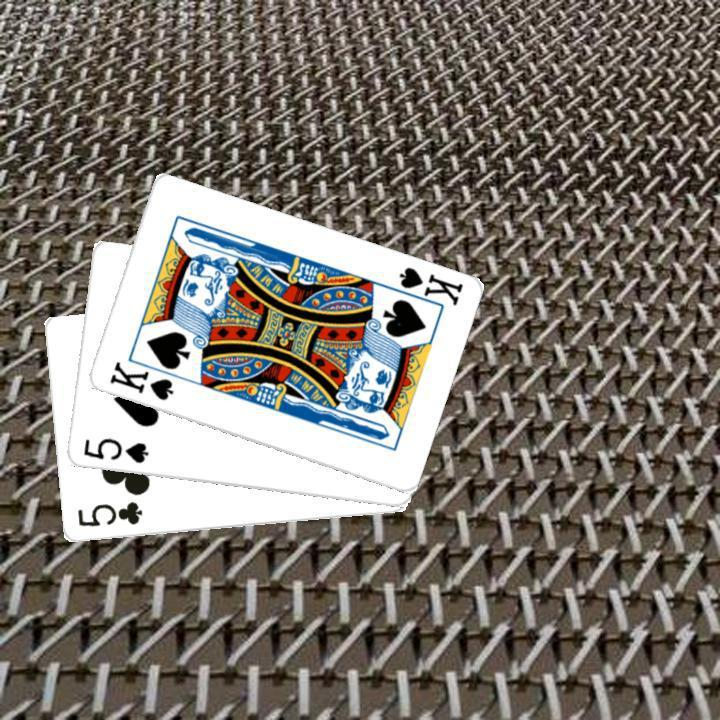5: (78, 434, 150, 466), (73, 498, 144, 530)
K: (383, 262, 464, 311), (104, 357, 175, 403)
